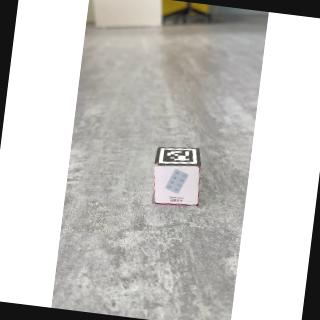Tablet: (152, 162, 207, 212)
